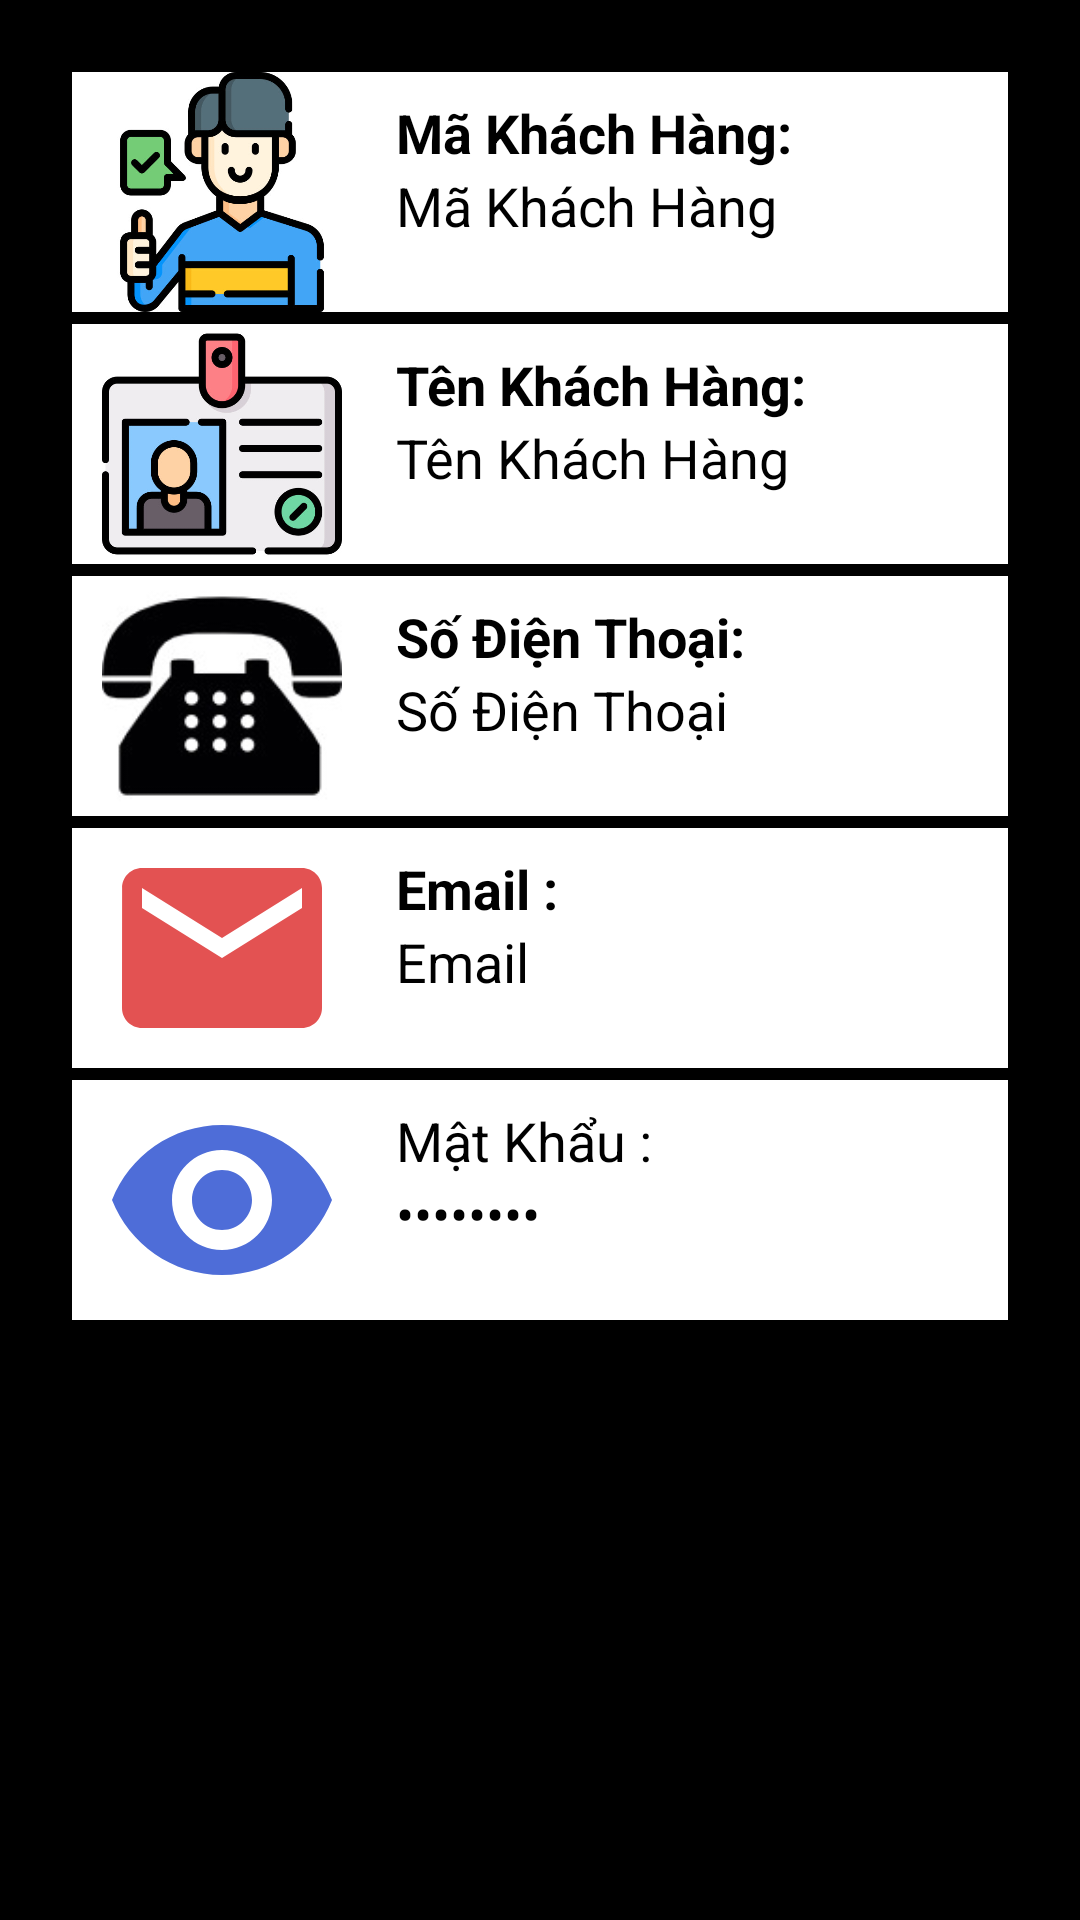

Screen size 1080*1920. Icon name, then its center in pixels as (x,y):
customer: (180,192)
id card: (222,444)
telephone: (222,696)
visibility: (222,1200)
